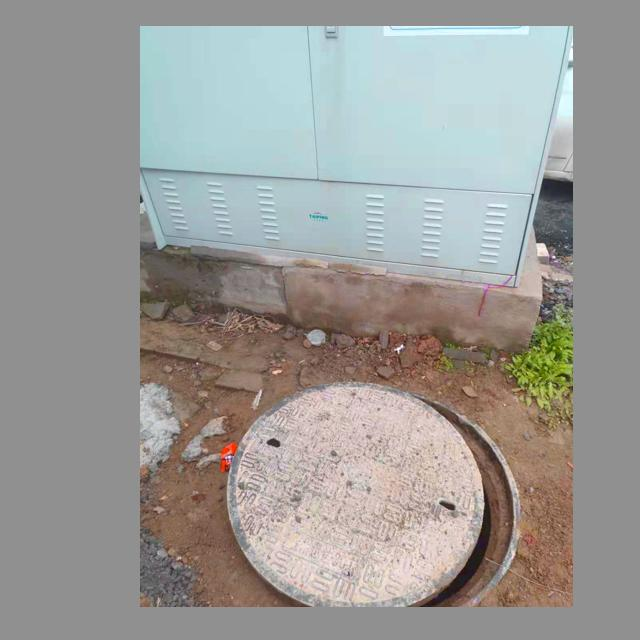uncovered: (224, 375, 551, 600)
